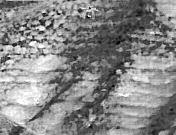Target: (79, 6, 99, 20)
